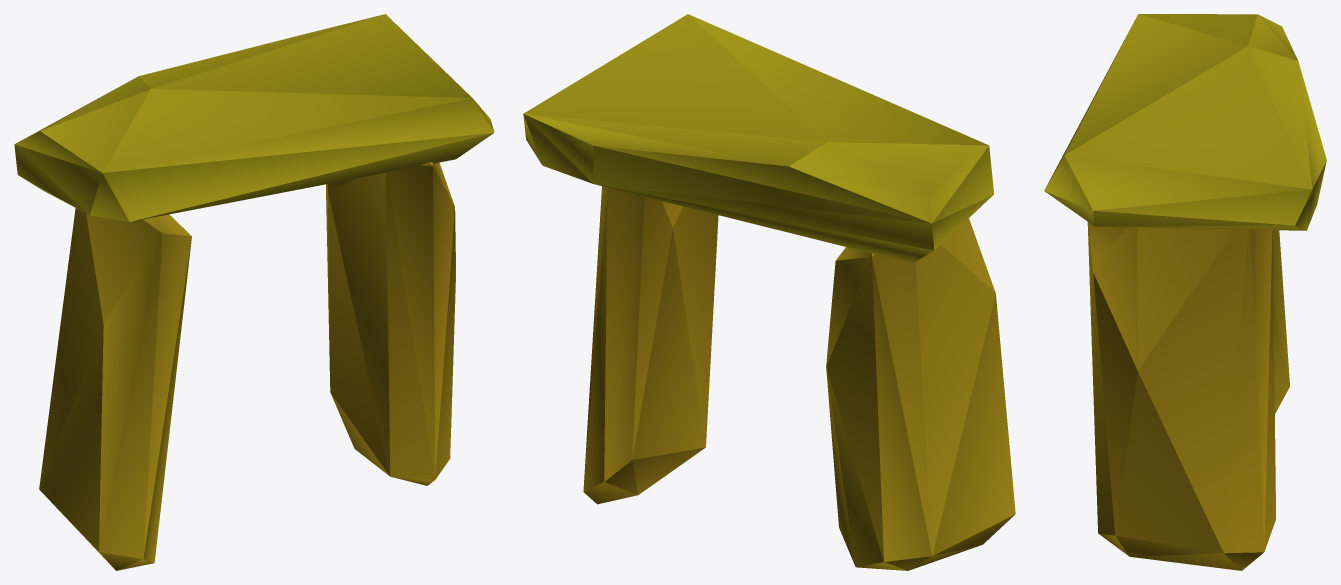
Rendered from hairhenge02.fbx.
3 renders of one model, left to right at view 1: azimuth 30°, elevation 25°; view 2: azimuth 150°, elevation 25°; view 3: azimuth 270°, elevation 25°, orthographic. The views are drawn at different scales.
Visible parts, largest first — view 1: hairhenge.002; view 2: hairhenge.002; view 3: hairhenge.002.
Boxes of the visible parts, x1,y1,x2,y2 form: hairhenge.002: (14, 14, 494, 570); hairhenge.002: (523, 14, 1015, 570); hairhenge.002: (1044, 14, 1326, 570).
Bounding box in the file's own units: 4.25 × 4.33 × 2.66.
